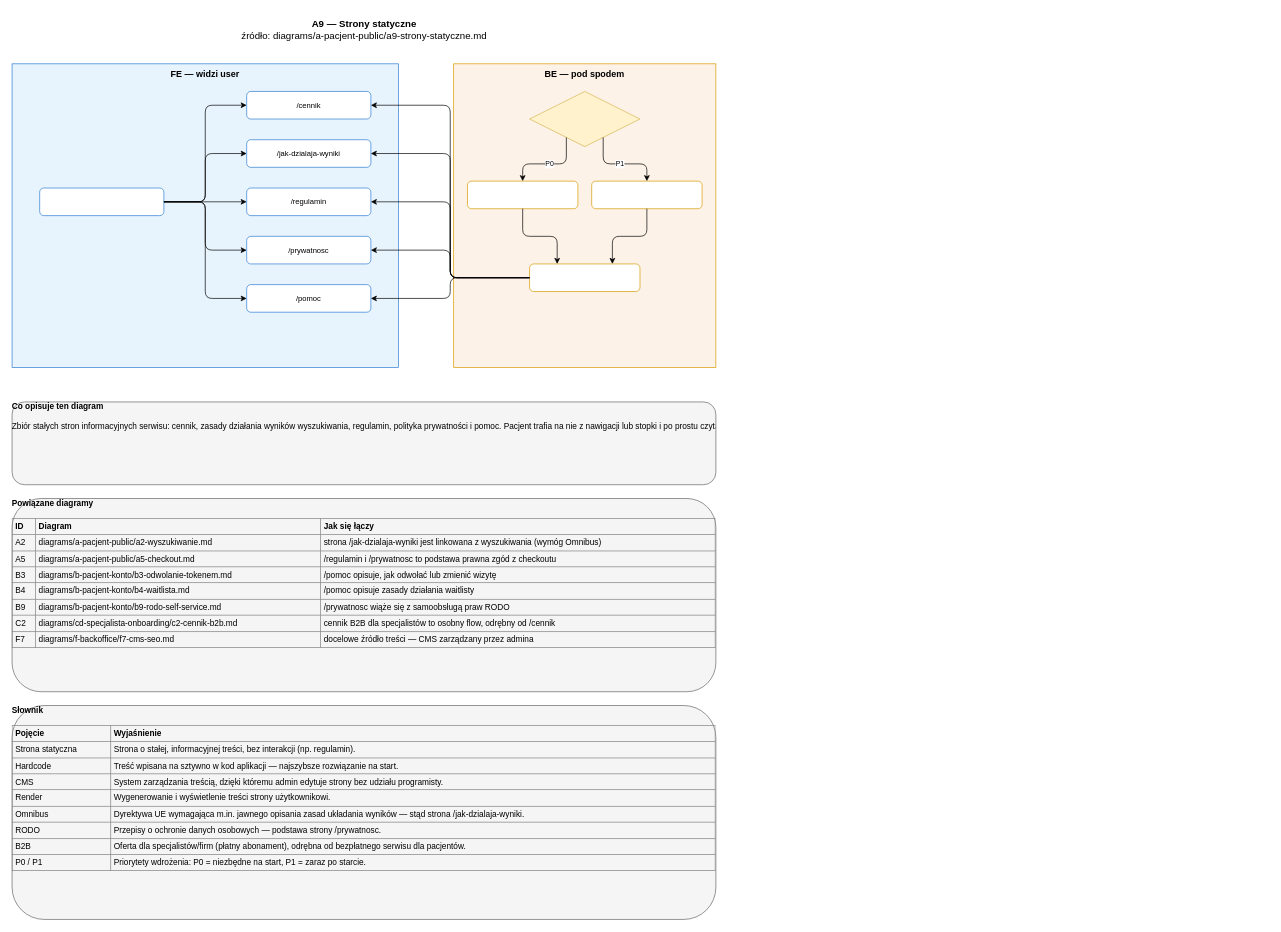
Some shapes in this 1281 by 932 pixel diagram are drawn without their labels. Each missing label, with the centre of its shape:
CMS (F7, później): point 646,194
Hardcode w repo (start): point 522,194
Nawigacja / stopka: point 101,201
Render treści statycznych: point 584,277
Źródło treści: point 584,119
